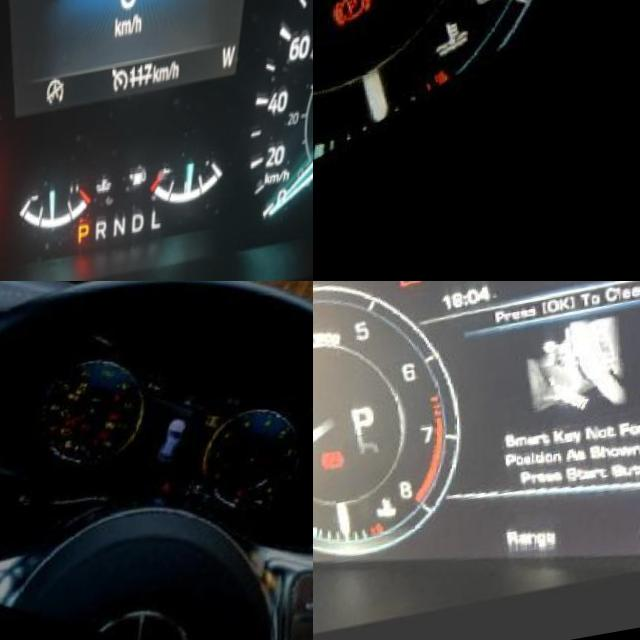Engine cooling system: (435, 29, 485, 87), (370, 501, 395, 532), (232, 500, 243, 515)
Low fuel level: (61, 448, 70, 461)
